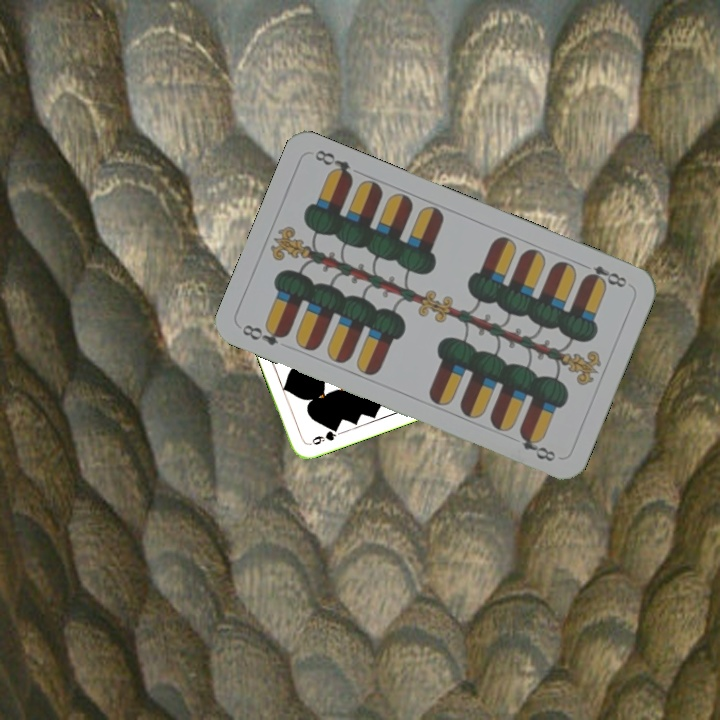E8: (576, 259, 630, 290), (238, 320, 291, 348)
G9: (304, 424, 341, 448)
